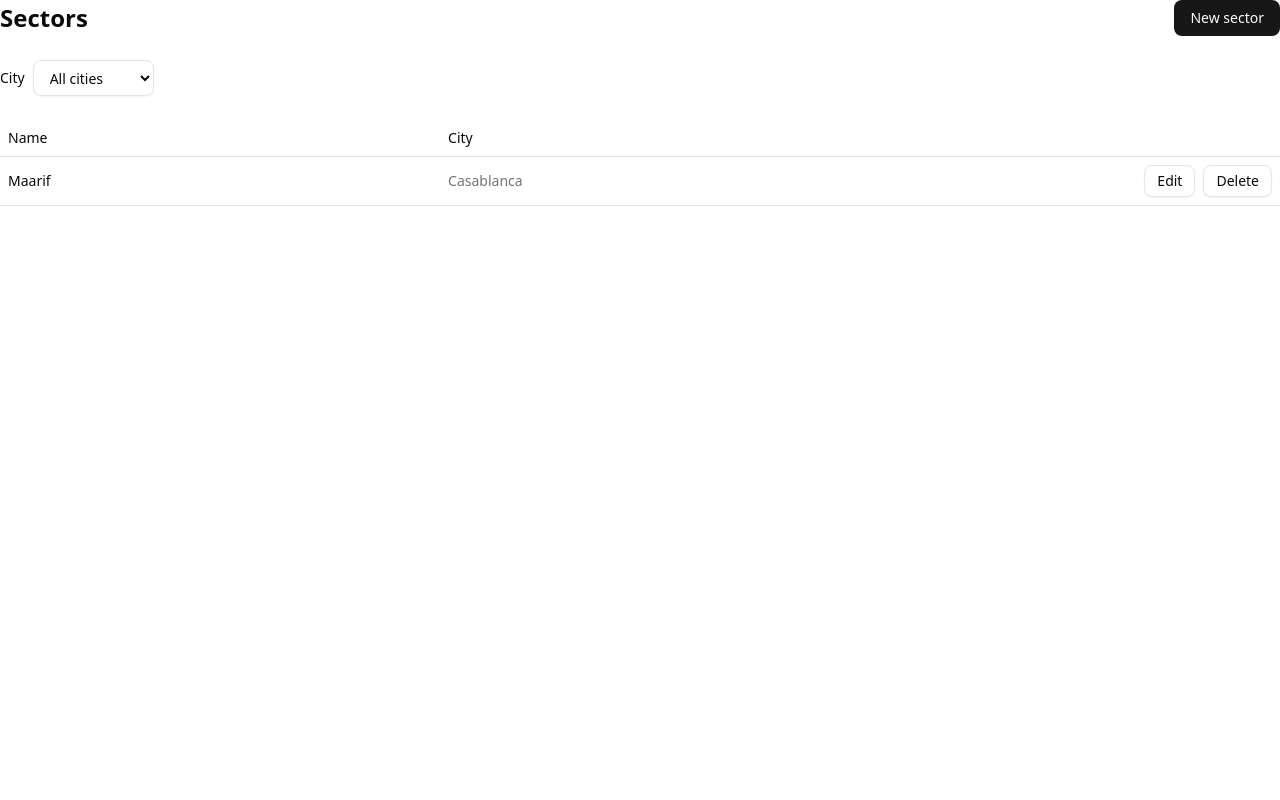
Test case: create / edit / delete › names the sector in the delete confirmation
This screenshot has width=1280, height=800.
Click the button with aria-label "delete maarif".
click(1238, 181)  # box [1203, 165, 1272, 197]
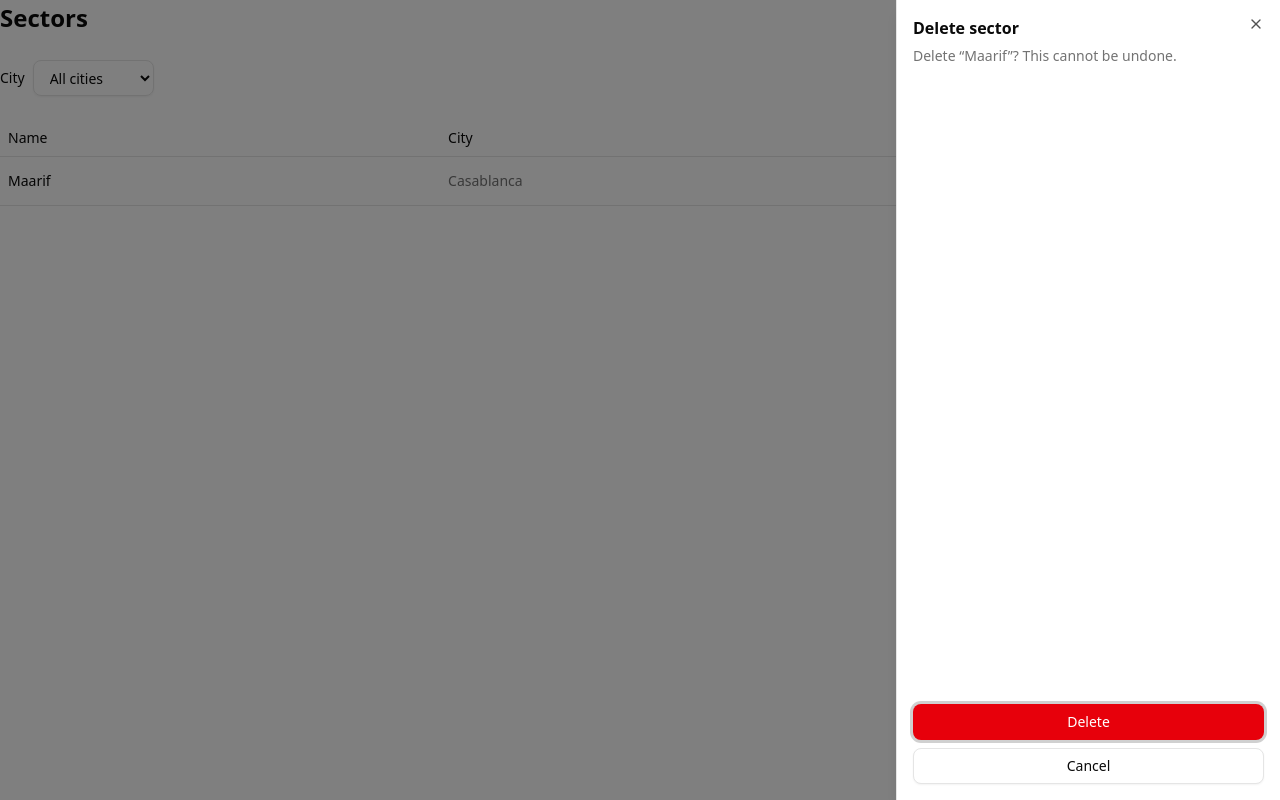
Expected: the text "Delete “Maarif”? This cannot be undone." is shown, [913, 46, 1177, 65]
